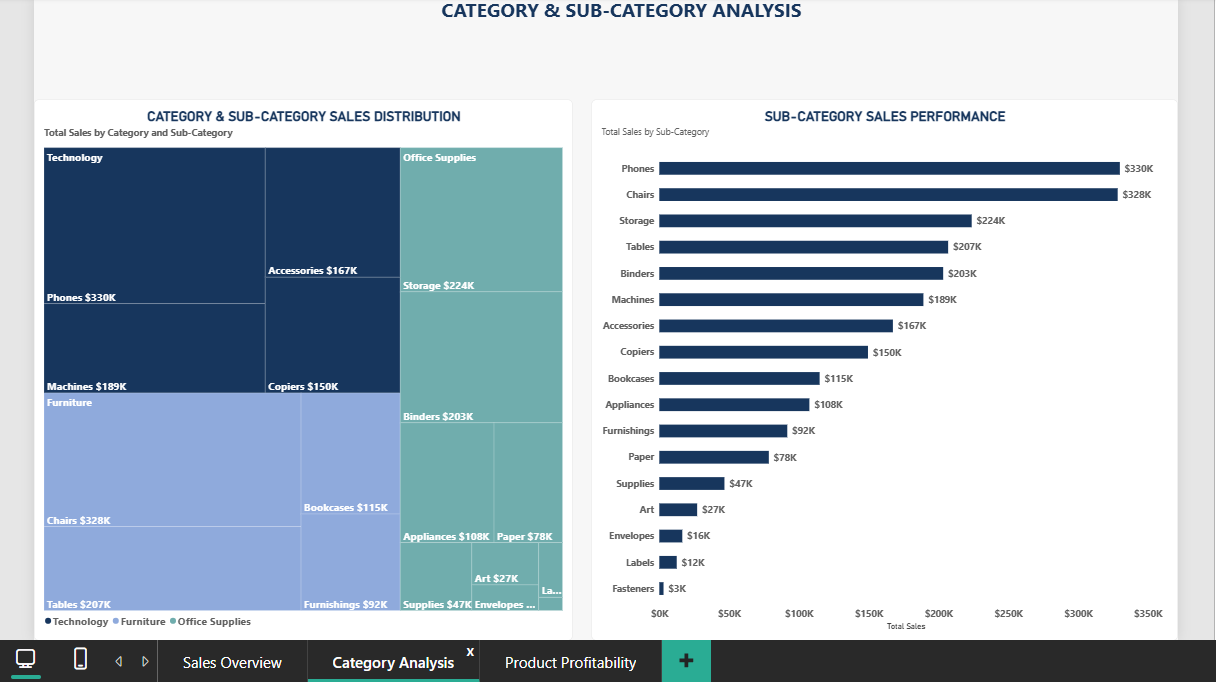

What the dashboard file says about the page in this screenshot:
{"tool":"powerbi","page":{"name":"Category Analysis","canvas":[1920,1080],"ordinal":1},"visuals":[{"type":"treemap","title":"CATEGORY & SUB-CATEGORY SALES DISTRIBUTION","fields":{"Details":["Dim Product.Sub-Category"],"Group":["Dim Product.Category"],"Values":["Fact Orders.Total Sales"]},"box":[0,172,904.2,908.4],"z":0},{"type":"clusteredBarChart","title":"SUB-CATEGORY SALES PERFORMANCE","fields":{"Category":["Dim Product.Sub-Category"],"Y":["Fact Orders.Total Sales"]},"box":[935.7,172,983.9,908.4],"z":1000},{"type":"textbox","box":[1680.4,539.2,239.2,369.2],"z":2000},{"type":"textbox","box":[576.9,0,818.2,172],"z":3000}]}

Visuals, with their boxes on the page's 1920x1080 design canvas (x1, y1, x2, y2). These are canvas units, not pixel positions in the 1216x682 screenshot, which may show the page scaled, cropped or inside an application window:
"CATEGORY & SUB-CATEGORY SALES DISTRIBUTION" treemap: pyautogui.locateOnScreen(0, 172, 904, 1080)
"SUB-CATEGORY SALES PERFORMANCE" clusteredBarChart: pyautogui.locateOnScreen(936, 172, 1920, 1080)
textbox: pyautogui.locateOnScreen(1680, 539, 1920, 908)
textbox: pyautogui.locateOnScreen(577, 0, 1395, 172)
